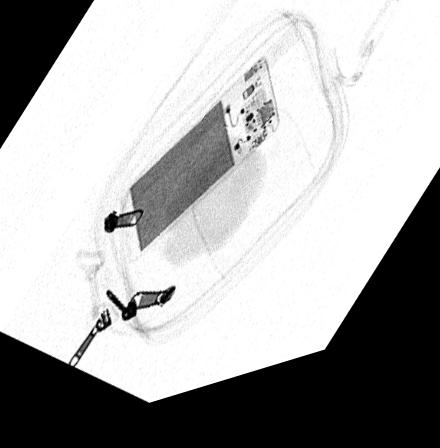Powerbank: (121, 67, 280, 270)
